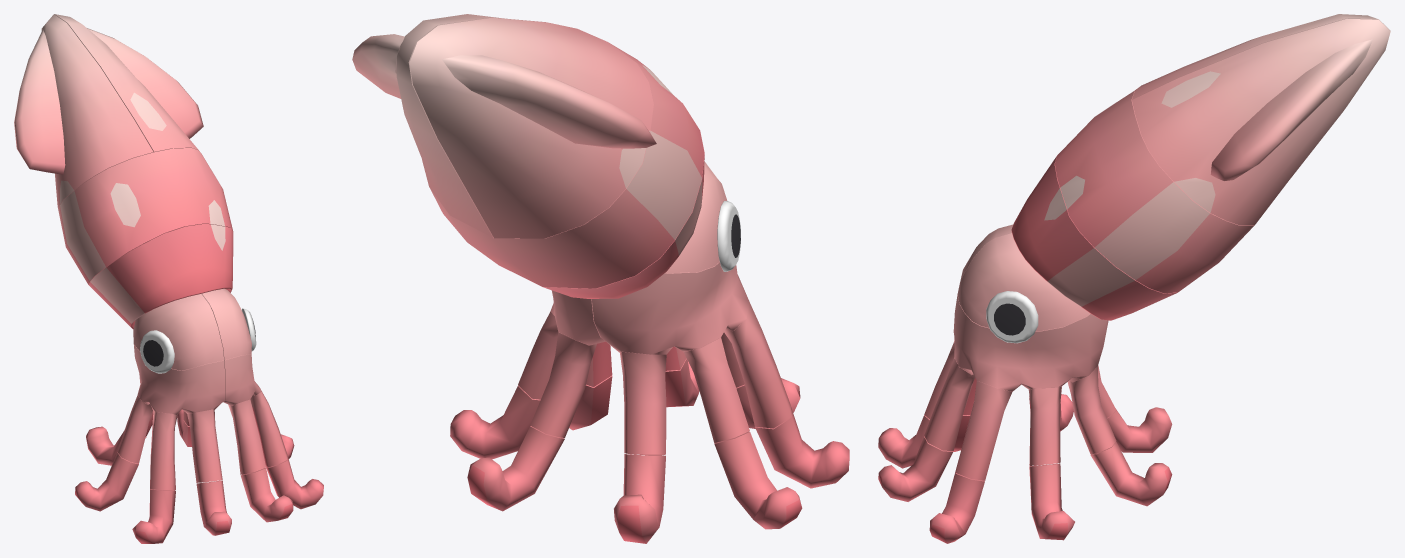
Rendered from Level_P_9.fbx.
The picture shows the model from 3 angles, left to right: view 1: azimuth 30°, elevation 25°; view 2: azimuth 150°, elevation 25°; view 3: azimuth 270°, elevation 25°; orthographic projection. The views are drawn at different scales.
Parts seen in each view (by area): view 1: Cube_lv9.004, Cube_lv9.026, Cube_lv9.024, Cube_lv9.030, Cube_lv9.008, Cube_lv9.025, Cube_lv9.027, Cube_lv9.005, Cube_lv9.028, Cube_lv9.019, Cube_lv9.020, Cube_lv9.013 (+11 smaller); view 2: Cube_lv9.026, Cube_lv9.001, Cube_lv9.027, Cube_lv9.030, Cube_lv9.025, Cube_lv9.004, Cube_lv9.017, Cube_lv9.013, Cube_lv9.015, Cube_lv9.019, Cube_lv9.011, Cube_lv9.002 (+13 smaller); view 3: Cube_lv9.025, Cube_lv9.004, Cube_lv9.024, Cube_lv9.006, Cube_lv9.005, Cube_lv9.001, Cube_lv9.028, Cube_lv9.022, Cube_lv9.015, Cube_lv9.014, Cube_lv9.010, Cube_lv9.021 (+7 smaller).
Part boxes in pixels (left/top/right/bottom): Cube_lv9.004: left=63, top=148, right=232, bottom=275; Cube_lv9.026: left=41, top=14, right=153, bottom=207; Cube_lv9.024: left=88, top=224, right=233, bottom=329; Cube_lv9.030: left=14, top=29, right=65, bottom=174; Cube_lv9.008: left=133, top=294, right=223, bottom=370; Cube_lv9.025: left=54, top=14, right=198, bottom=152; Cube_lv9.027: left=134, top=345, right=225, bottom=414; Cube_lv9.005: left=87, top=28, right=203, bottom=138; Cube_lv9.028: left=201, top=288, right=251, bottom=360; Cube_lv9.019: left=150, top=411, right=177, bottom=490; Cube_lv9.020: left=187, top=409, right=222, bottom=482; Cube_lv9.013: left=75, top=452, right=138, bottom=511; Cube_lv9.026: left=409, top=17, right=653, bottom=238; Cube_lv9.001: left=430, top=164, right=691, bottom=288; Cube_lv9.027: left=592, top=262, right=749, bottom=354; Cube_lv9.030: left=442, top=55, right=656, bottom=148; Cube_lv9.025: left=396, top=14, right=545, bottom=237; Cube_lv9.004: left=609, top=43, right=704, bottom=211; Cube_lv9.017: left=620, top=352, right=666, bottom=455; Cube_lv9.013: left=714, top=431, right=802, bottom=529; Cube_lv9.015: left=467, top=426, right=564, bottom=511; Cube_lv9.019: left=724, top=302, right=791, bottom=428; Cube_lv9.011: left=755, top=406, right=849, bottom=488; Cube_lv9.002: left=530, top=332, right=596, bottom=437; Cube_lv9.025: left=1132, top=18, right=1390, bottom=225; Cube_lv9.004: left=1055, top=89, right=1192, bottom=266; Cube_lv9.024: left=1011, top=155, right=1177, bottom=320; Cube_lv9.006: left=953, top=295, right=1108, bottom=391; Cube_lv9.005: left=1210, top=39, right=1372, bottom=180; Cube_lv9.001: left=1116, top=201, right=1253, bottom=293; Cube_lv9.028: left=957, top=233, right=1090, bottom=331; Cube_lv9.022: left=955, top=381, right=1012, bottom=480; Cube_lv9.015: left=1090, top=442, right=1172, bottom=506; Cube_lv9.014: left=1029, top=463, right=1074, bottom=540; Cube_lv9.010: left=878, top=436, right=953, bottom=501; Cube_lv9.021: left=924, top=358, right=975, bottom=450.
Bounding box in the file's own units: 1.2 × 2.05 × 1.99.
